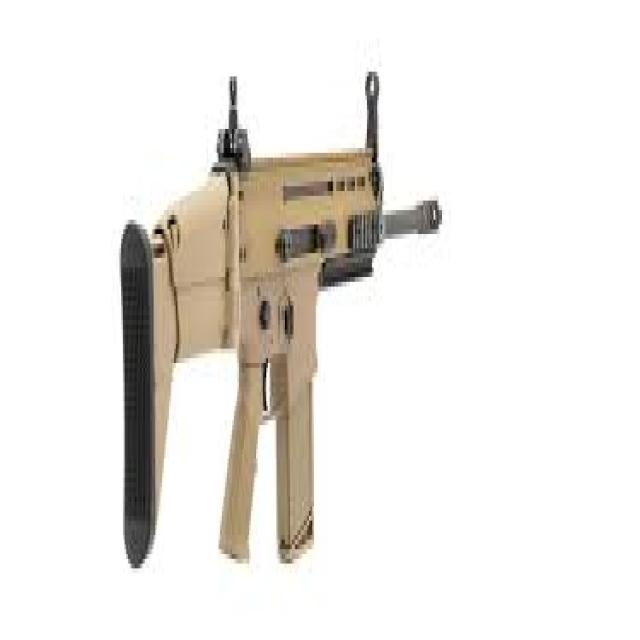Gun: (110, 73, 447, 564)
